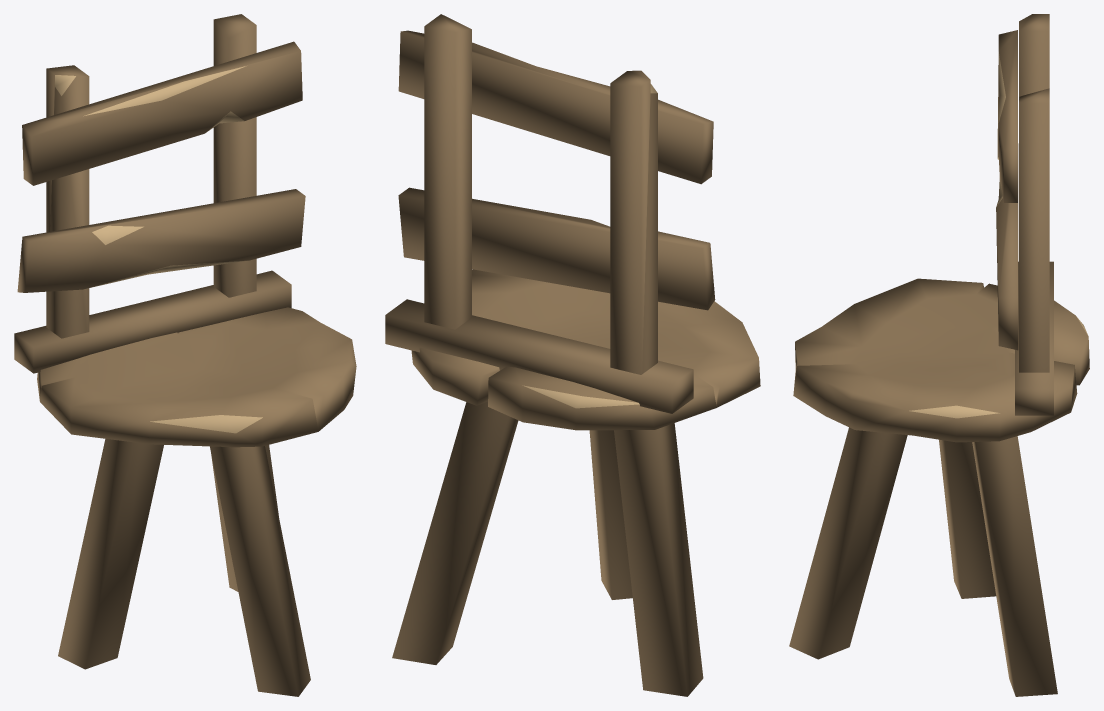
The model's file is rpgpp_ag_stool_02.fbx.
3 views of the same model, side by side, from view 1: azimuth 30°, elevation 25°; view 2: azimuth 150°, elevation 25°; view 3: azimuth 270°, elevation 25° (orthographic). The views are drawn at different scales.
Visible parts, largest first — view 1: rpgpp_ag_stool_02; view 2: rpgpp_ag_stool_02; view 3: rpgpp_ag_stool_02.
Boxes of the visible parts, left/top/right/bottom form: rpgpp_ag_stool_02: left=14, top=14, right=356, bottom=696; rpgpp_ag_stool_02: left=385, top=14, right=760, bottom=696; rpgpp_ag_stool_02: left=789, top=14, right=1089, bottom=696.
Bounding box in the file's own units: 0.4151 × 0.8069 × 0.3793.
